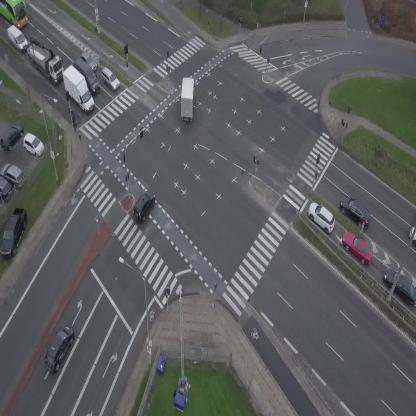bicycle: (71, 114, 79, 131)
car: (39, 321, 78, 374), (335, 191, 378, 232), (337, 227, 379, 267), (303, 199, 340, 236), (128, 187, 159, 224), (96, 66, 124, 92), (78, 49, 100, 71), (13, 412, 26, 416)
lorry: (17, 33, 72, 88), (55, 63, 105, 115), (70, 56, 105, 95), (3, 23, 30, 54), (178, 77, 197, 121)
